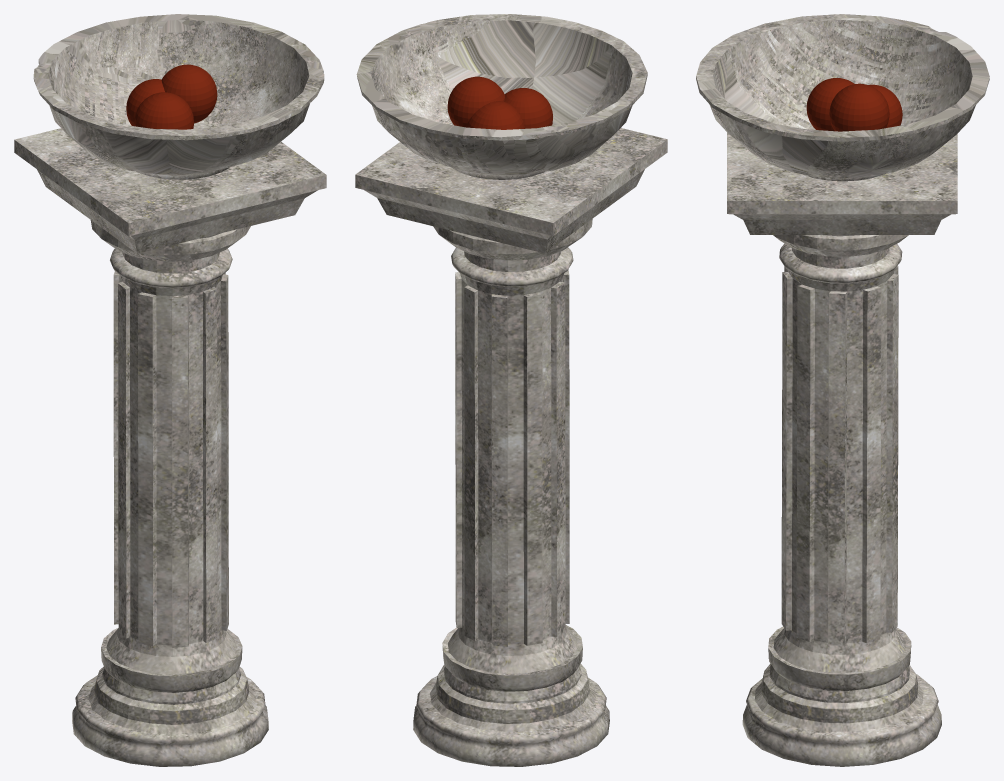
File: column.glb
3 renders of one model, left to right at view 1: azimuth 30°, elevation 25°; view 2: azimuth 150°, elevation 25°; view 3: azimuth 270°, elevation 25°, orthographic.
Visible parts, largest first — view 1: pPlane2, dish_Low, Sphere.001, Sphere.004, Sphere.003; view 2: pPlane2, dish_Low, Sphere.001, Sphere.004, Sphere.003; view 3: pPlane2, dish_Low, Sphere.001, Sphere.004, Sphere.003.
Part boxes in pixels (x1,y1,x2,y2): pPlane2: (14,128,326,766); dish_Low: (33,14,324,179); Sphere.001: (161,64,217,123); Sphere.004: (134,92,193,129); Sphere.003: (126,79,164,126); pPlane2: (355,128,667,766); dish_Low: (356,14,647,179); Sphere.001: (447,76,504,127); Sphere.004: (504,88,552,128); Sphere.003: (466,101,524,129); pPlane2: (727,132,957,766); dish_Low: (696,14,989,181); Sphere.001: (829,83,889,131); Sphere.004: (806,78,854,131); Sphere.003: (868,84,902,127).
Bounding box in the file's own units: 2.87 × 7.07 × 2.88.
2 materials, 1 textured.
